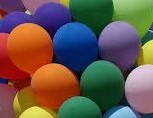Balloon: (80, 60, 124, 106), (7, 23, 53, 66), (53, 22, 98, 65), (31, 62, 78, 102), (99, 20, 138, 65), (125, 64, 153, 113), (58, 96, 102, 118)
